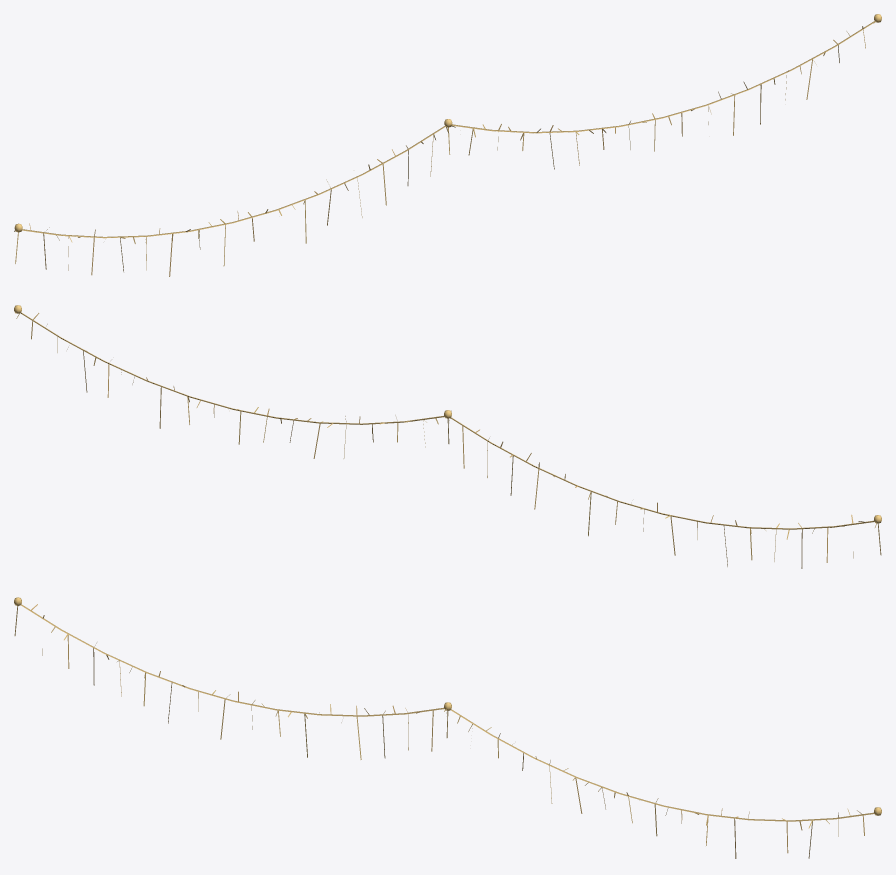
Rendered from prop_schmuck_tinsel_1.lite.glb.
3 views of the same model, one above another, from view 1: azimuth 30°, elevation 25°; view 2: azimuth 150°, elevation 25°; view 3: azimuth 330°, elevation 25° (orthographic).
Parts seen in each view (by area): view 1: tinsel_0_mesh; view 2: tinsel_0_mesh; view 3: tinsel_0_mesh.
Boxes of the visible parts, x1,y1,x2,y2 form: tinsel_0_mesh: [14, 21, 875, 276]; tinsel_0_mesh: [16, 312, 881, 568]; tinsel_0_mesh: [14, 604, 874, 858].
Bounding box in the file's own units: 2.58 × 0.26 × 0.0574.
